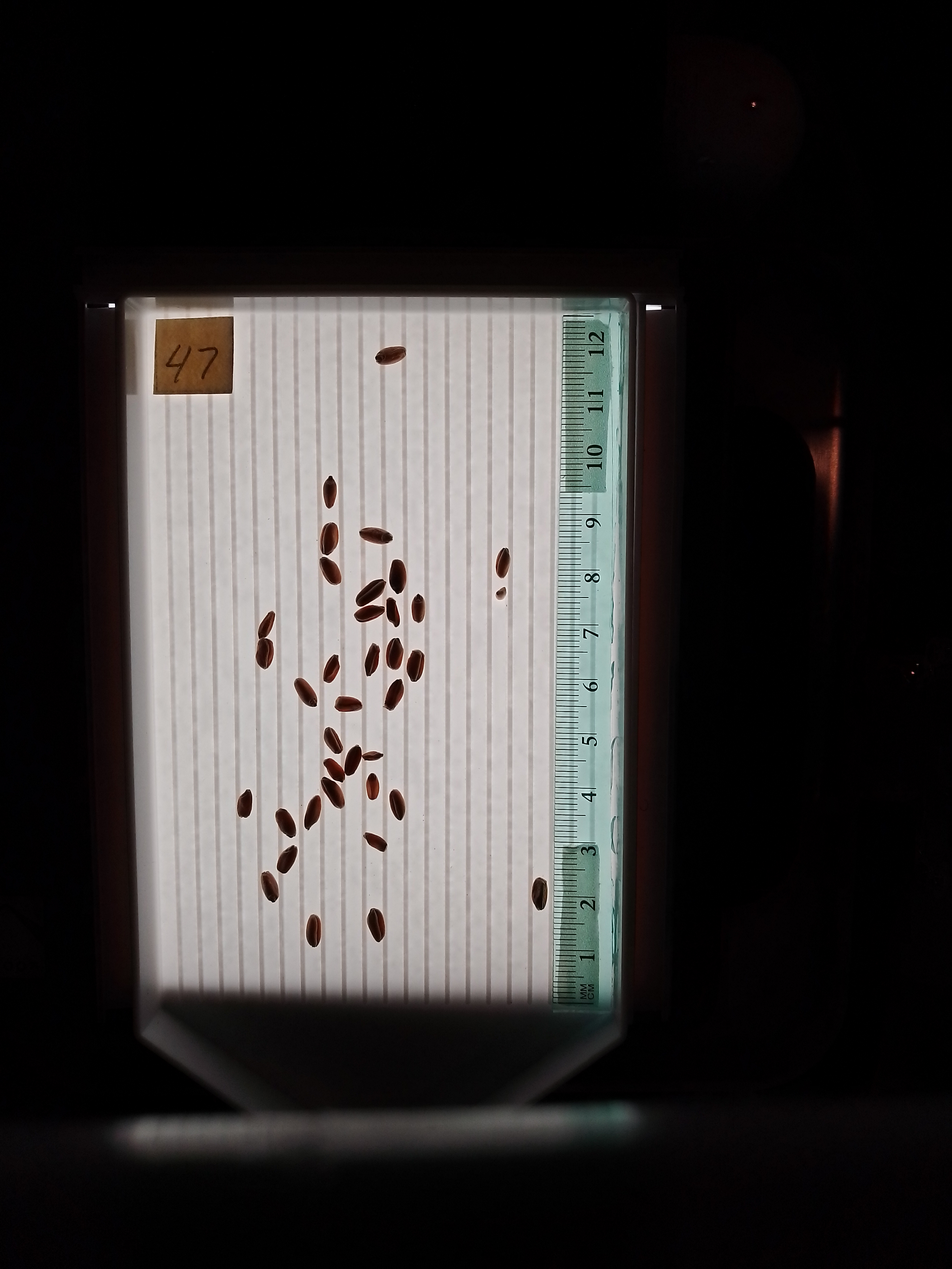seed mask: (357, 579, 385, 606), (320, 523, 340, 556), (295, 678, 317, 707), (322, 779, 344, 808), (275, 808, 297, 837), (320, 556, 341, 585), (367, 909, 386, 941), (389, 560, 407, 593), (360, 527, 392, 545), (385, 680, 404, 710), (376, 347, 406, 365), (344, 746, 362, 776), (277, 846, 297, 873), (261, 872, 279, 902), (356, 604, 384, 623), (305, 796, 321, 829), (532, 878, 548, 911), (387, 638, 403, 670), (407, 651, 424, 681), (256, 639, 273, 669), (324, 728, 343, 754), (324, 759, 345, 782), (306, 915, 321, 947), (323, 477, 338, 508), (365, 645, 380, 675), (335, 696, 361, 713), (495, 548, 510, 577), (324, 655, 340, 682), (390, 791, 405, 819), (237, 791, 252, 818), (258, 613, 274, 638), (365, 833, 386, 852), (411, 595, 425, 623), (387, 598, 400, 626), (366, 774, 380, 799)
